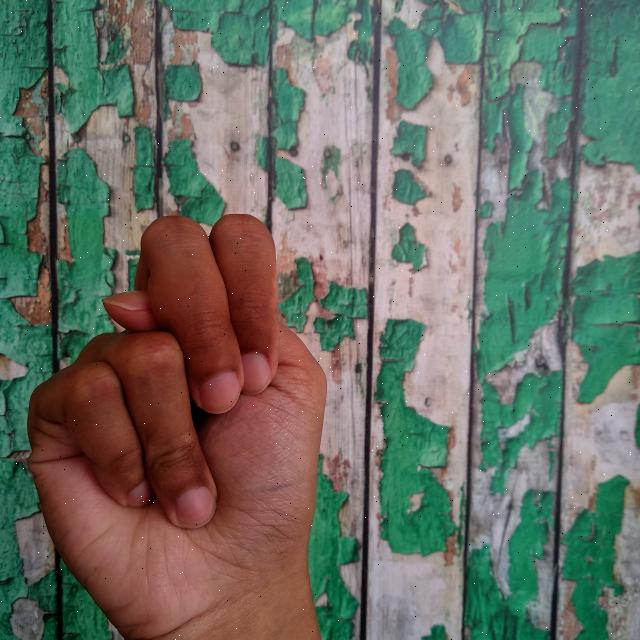N: (22, 199, 346, 640)
